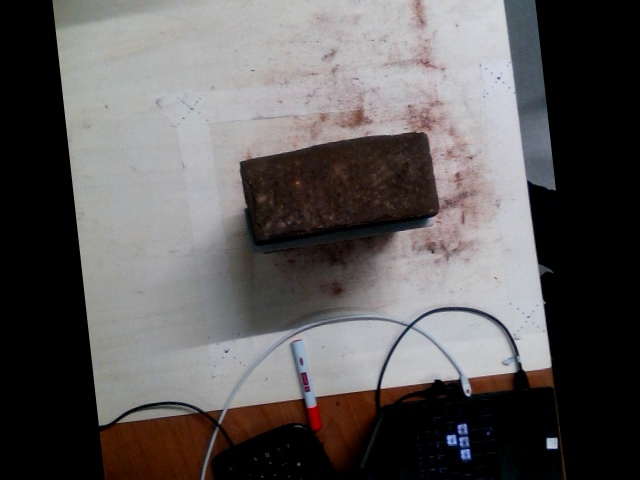brick: (240, 135, 438, 234)
